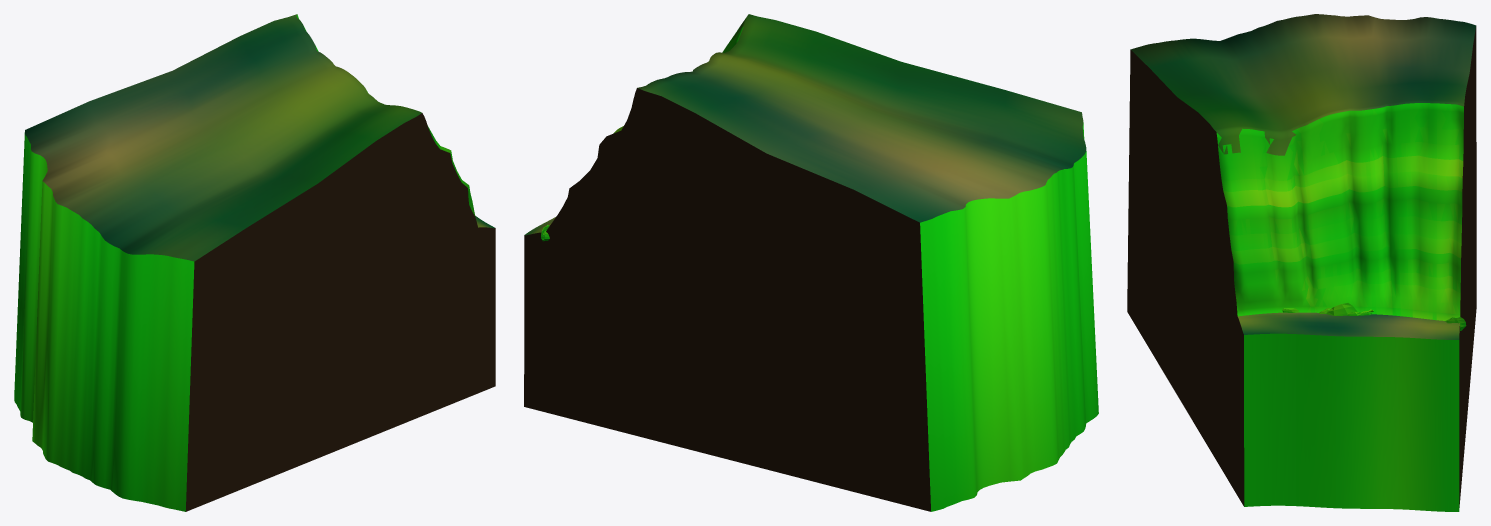
File: SM_ForestRisingCliffs_07.fbx
3 views of the same model, side by side, from view 1: azimuth 30°, elevation 25°; view 2: azimuth 150°, elevation 25°; view 3: azimuth 270°, elevation 25° (orthographic). The views are drawn at different scales.
Parts seen in each view (by area): view 1: SM_ForestRisingCliffs_07; view 2: SM_ForestRisingCliffs_07; view 3: SM_ForestRisingCliffs_07.
Boxes of the visible parts, x1,y1,x2,y2 form: SM_ForestRisingCliffs_07: (14,14,495,511); SM_ForestRisingCliffs_07: (524,14,1098,511); SM_ForestRisingCliffs_07: (1127,14,1476,511).
Bounding box in the file's own units: 69.03 × 45.35 × 49.99.
